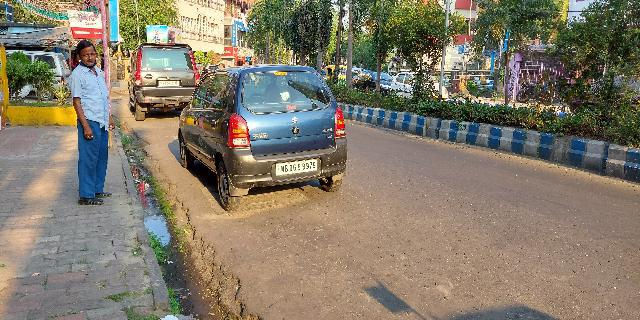Car: (176, 59, 351, 212), (125, 40, 200, 123)
